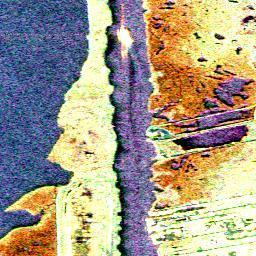Ship: (114, 23, 134, 52)
